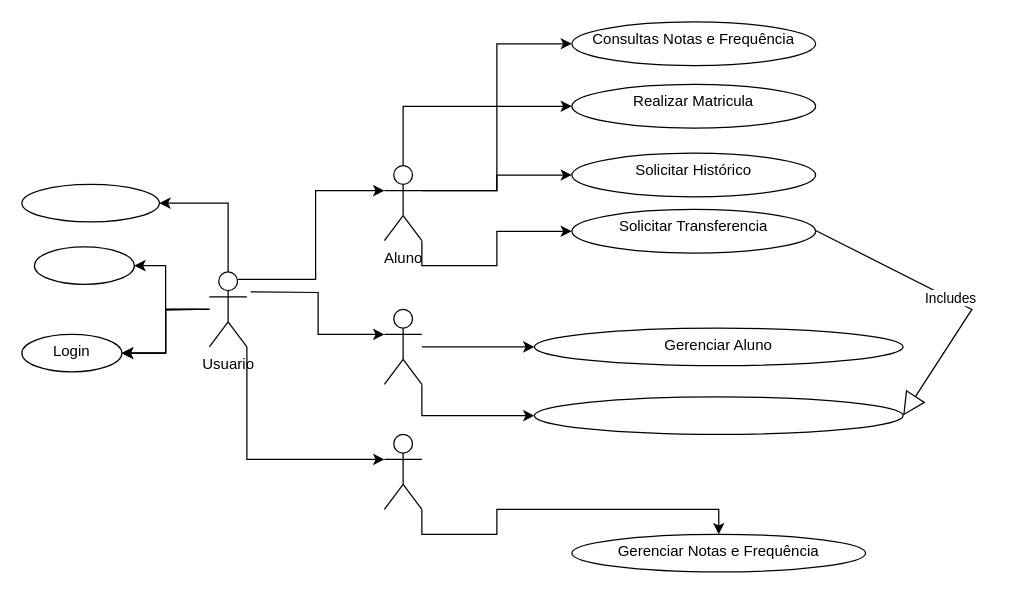
Some shapes in this 1016 by 601 pixel diagram are drawn without their labels. Here are the shapes that lost their labels. From the top down, the box of each, then its label:
(21, 183, 159, 222): Recuperar Senha
(33, 246, 134, 284): Logout
(383, 308, 422, 384): Funcionario Secretaria
(533, 396, 903, 434): Aprovar Transferencia
(383, 433, 422, 509): Professor
